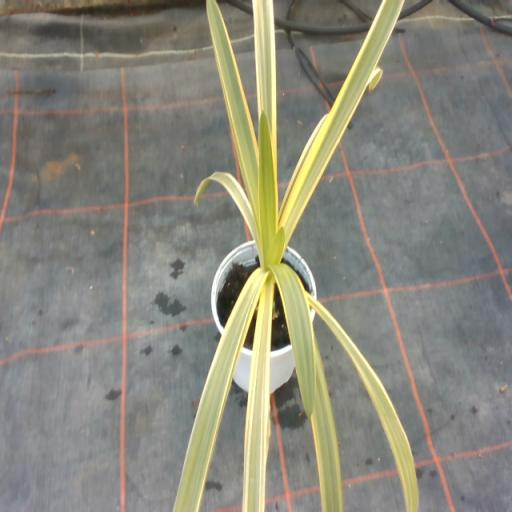Agapanthus-praecox: (280, 0, 403, 241), (309, 295, 418, 511), (173, 271, 262, 511), (207, 0, 258, 206), (242, 284, 272, 511), (270, 265, 315, 416), (311, 339, 342, 511), (195, 173, 258, 250), (252, 0, 276, 171), (258, 111, 277, 263), (270, 228, 283, 263), (367, 67, 382, 90)
